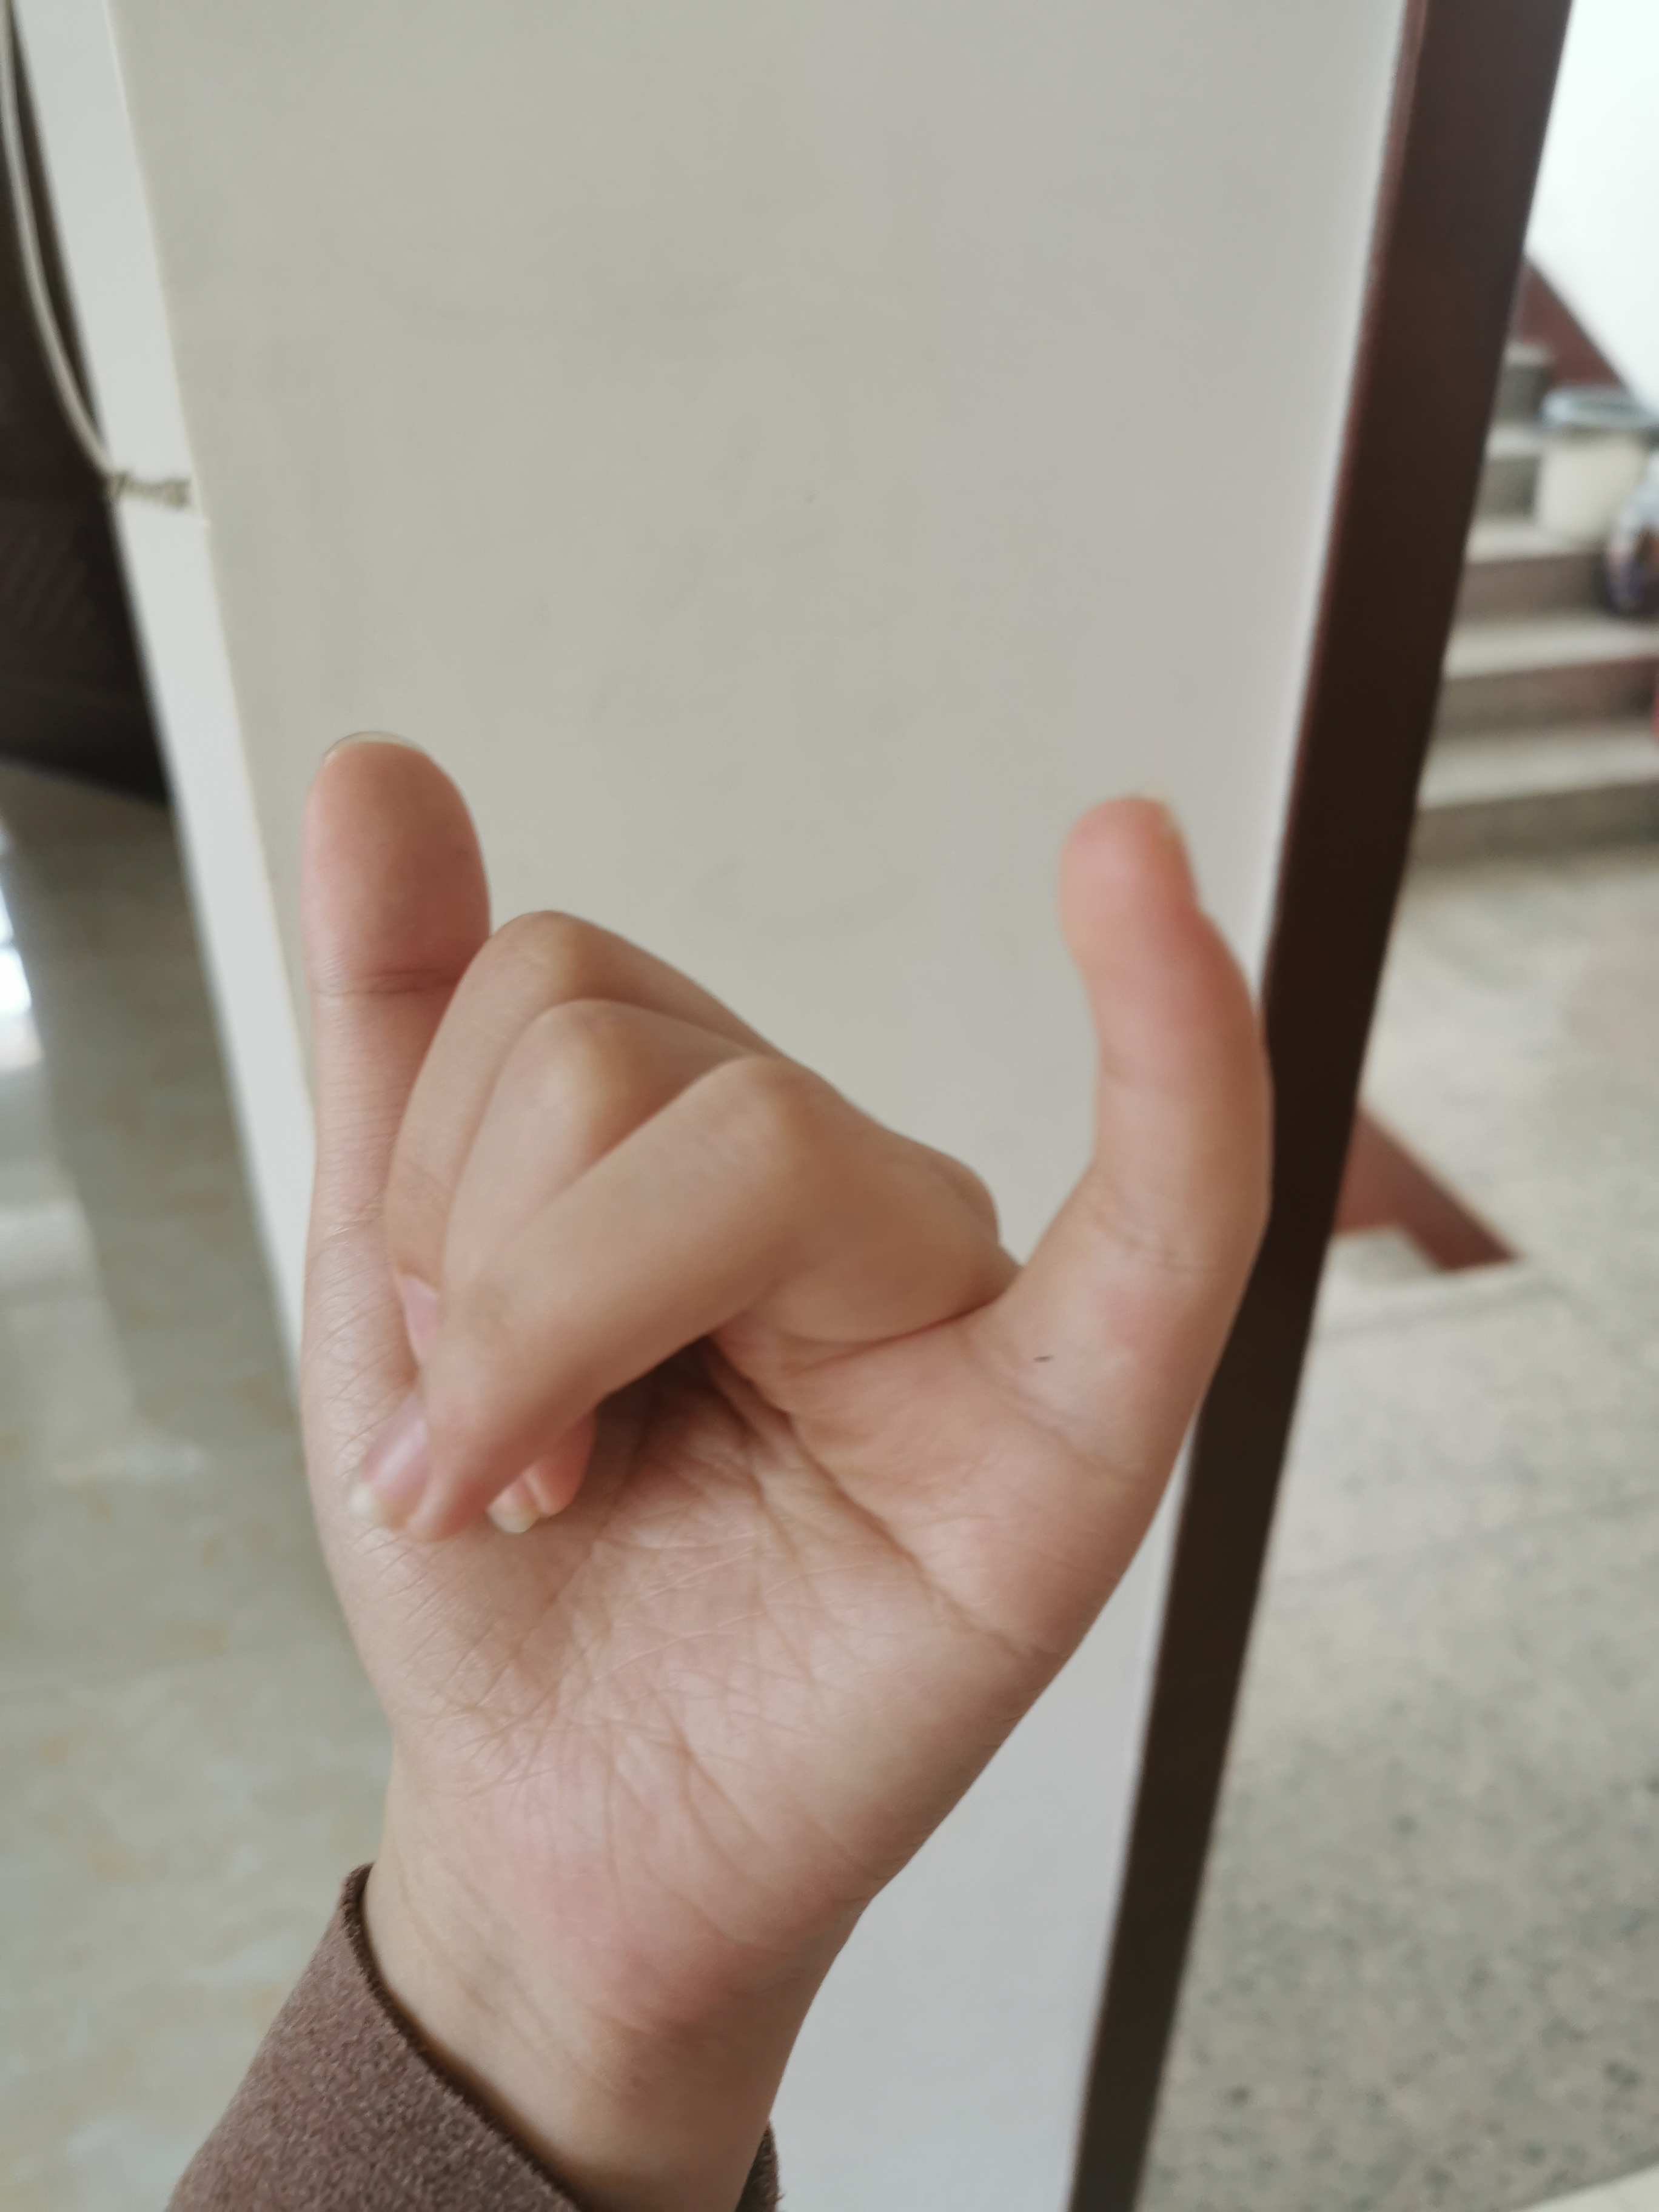clockwise: (281, 712, 1274, 1892)
